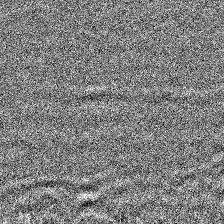cavities: (80, 76, 175, 161)
